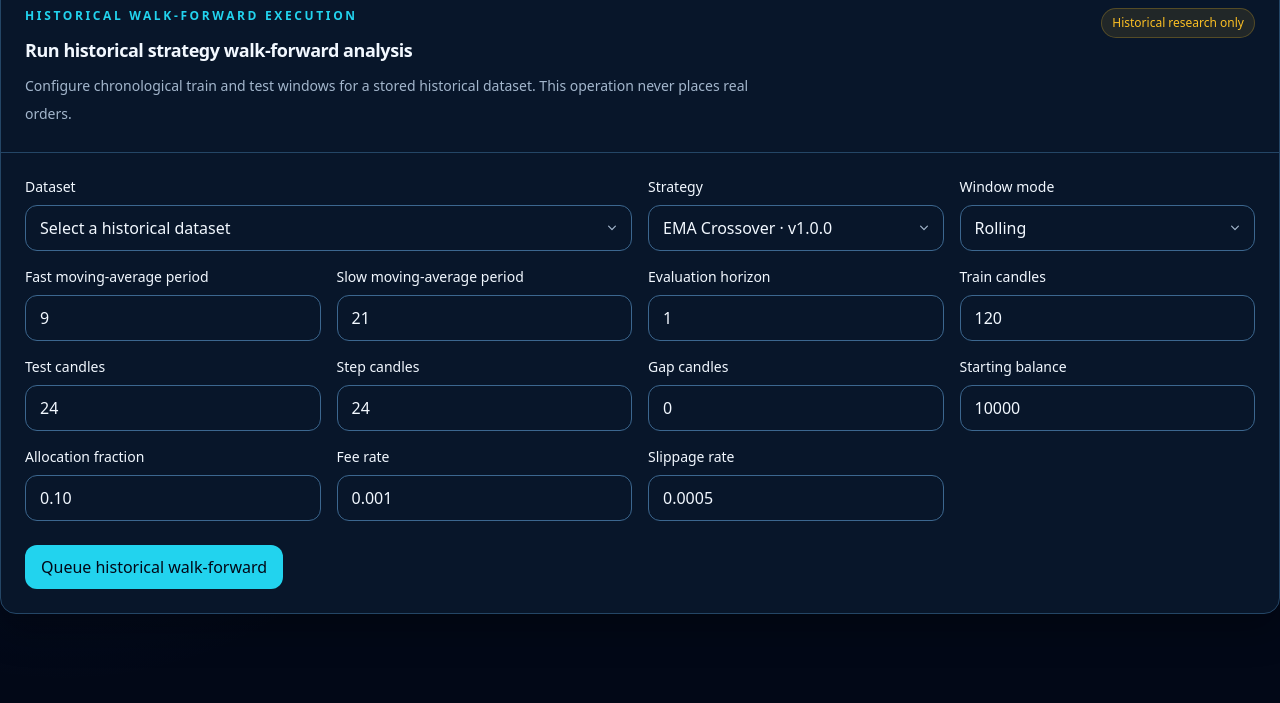
it: WalkForwardRunForm › rejects a dataset that cannot contain one fold
Select "BTC historical dataset · BTC/USDT · 1h" in the dropdown labelled "Dataset". click: (328, 228)
box: 25,205 -> 632,251
(page scrolled)
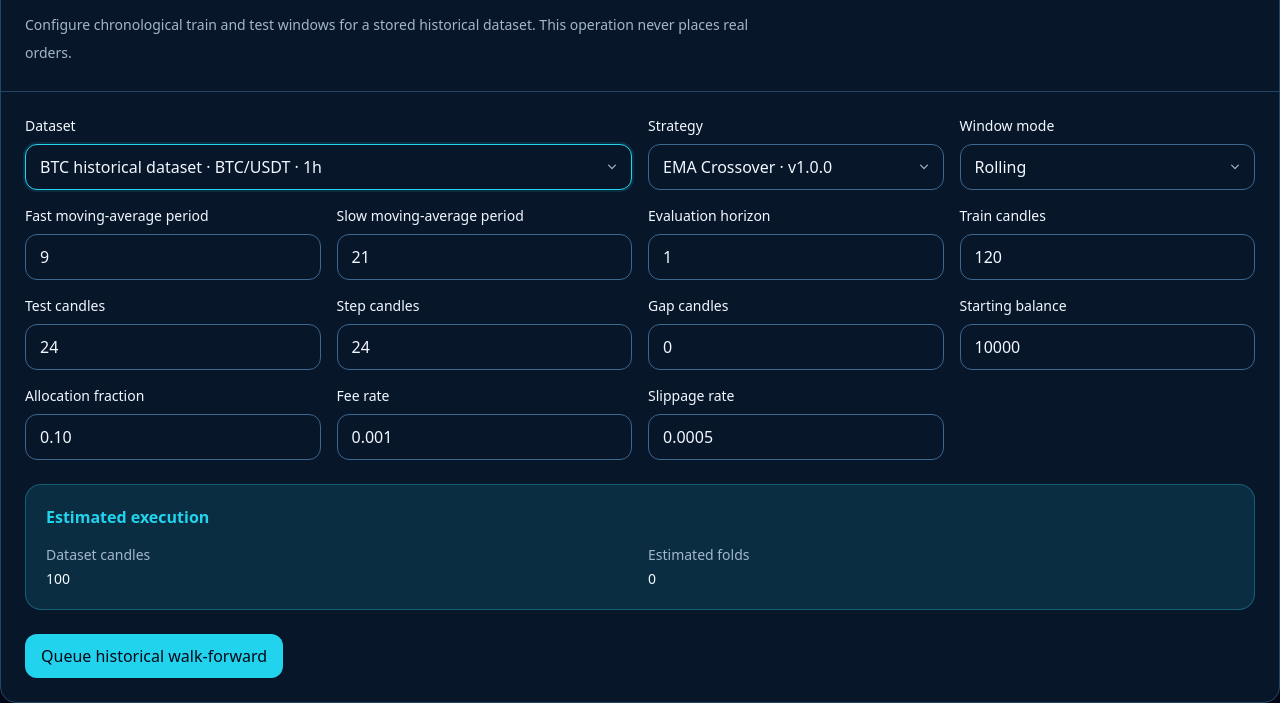
Click the button "Queue historical walk-forward". click: (154, 656)
box: 25,634 -> 283,678
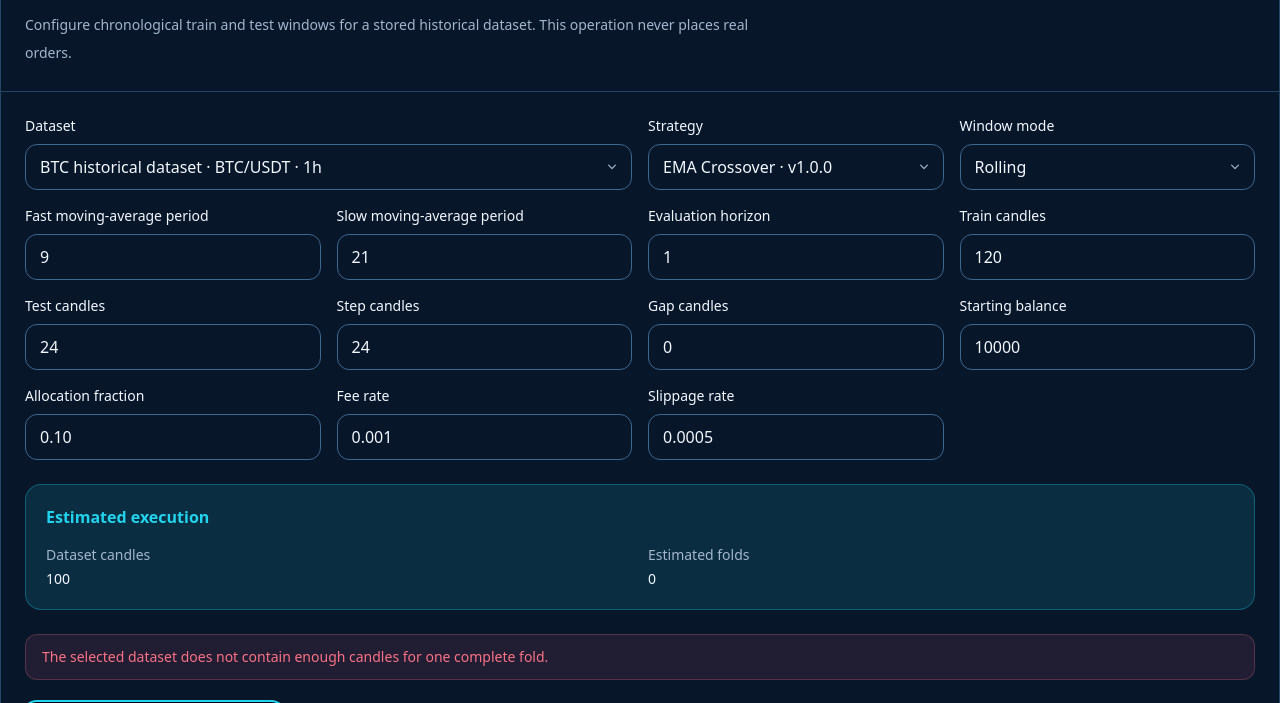
Now the message reads "The selected dataset does not contain enough candles for one complete fold.", box 42,647 -> 548,666
